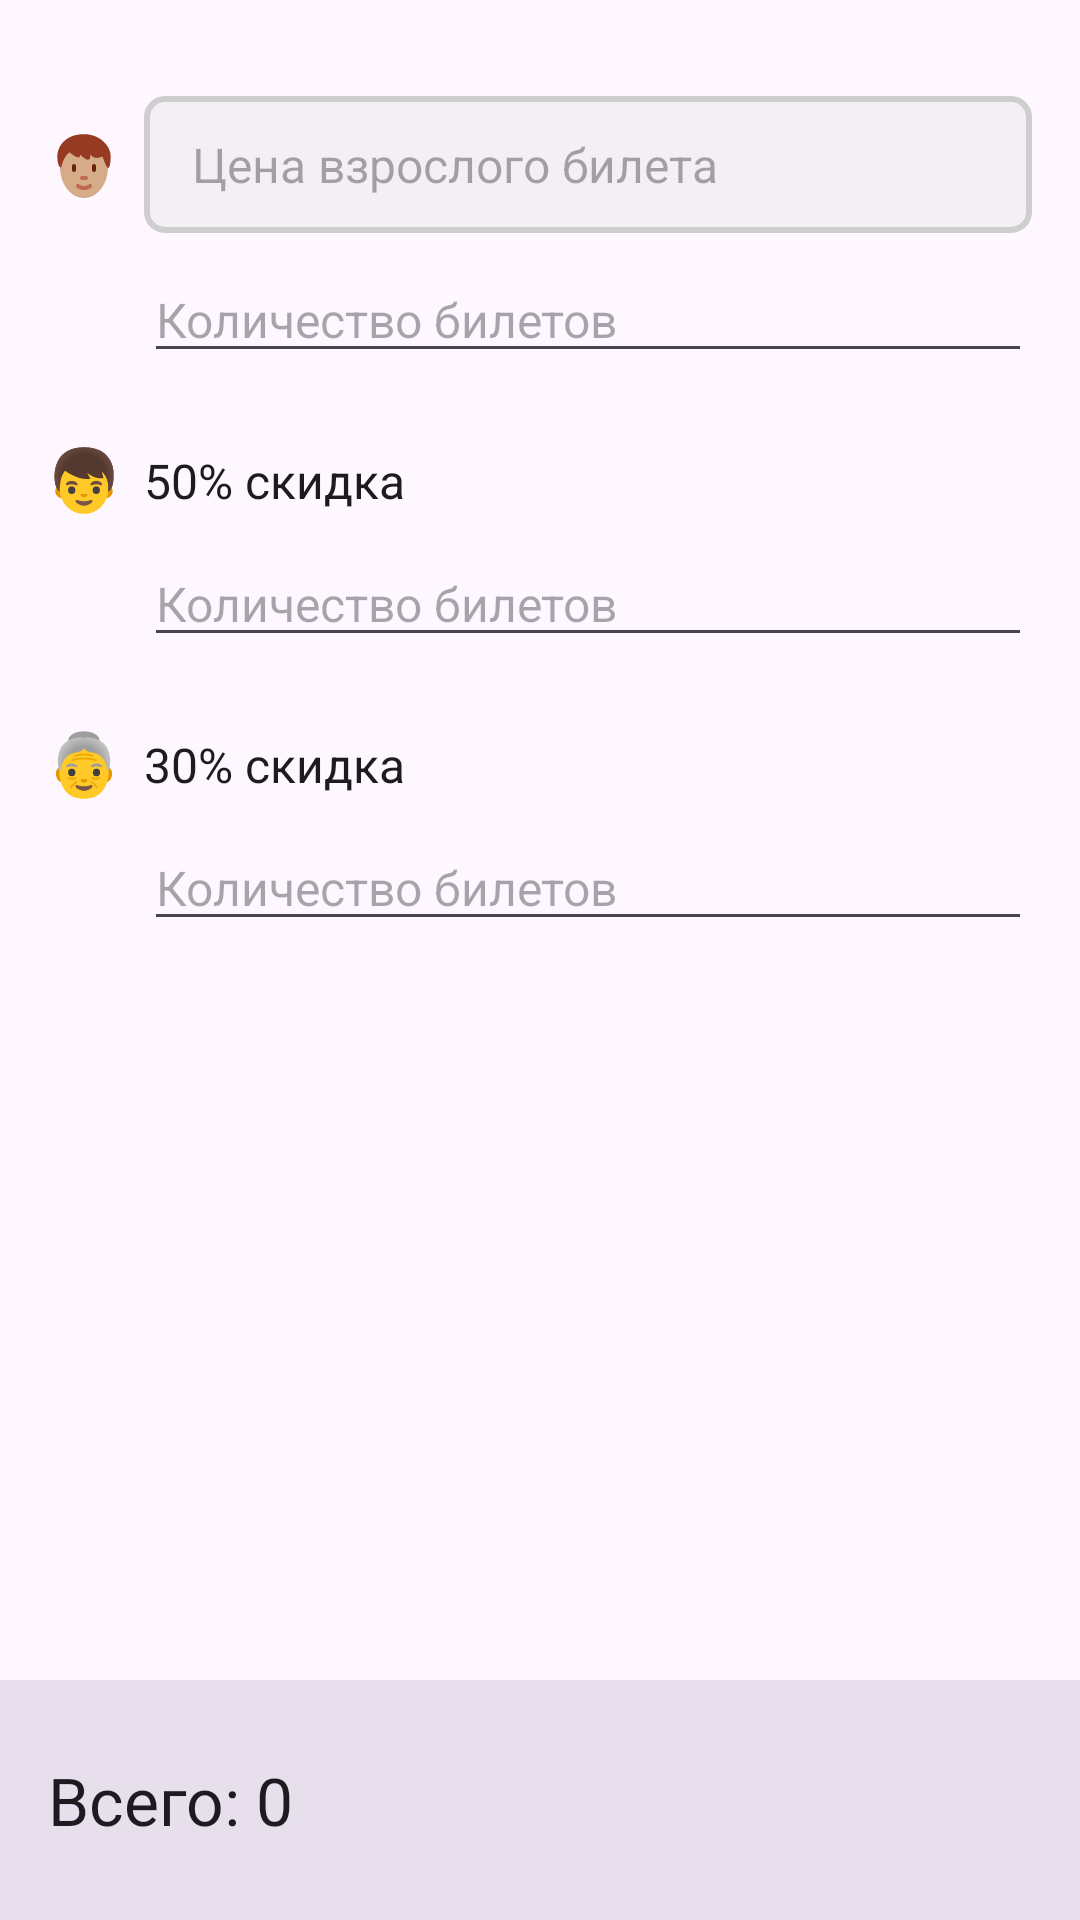

Named icons in this screenshot (1080w x 1920h) and their bounding boxes, (x1, y1, x2, y2):
adult: (57, 134, 111, 198)
child: (54, 447, 114, 514)
retire: (56, 731, 112, 799)
